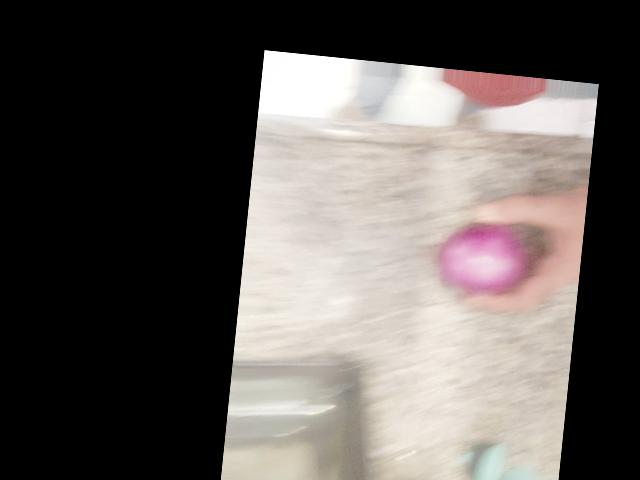onion: (274, 223, 356, 319)
